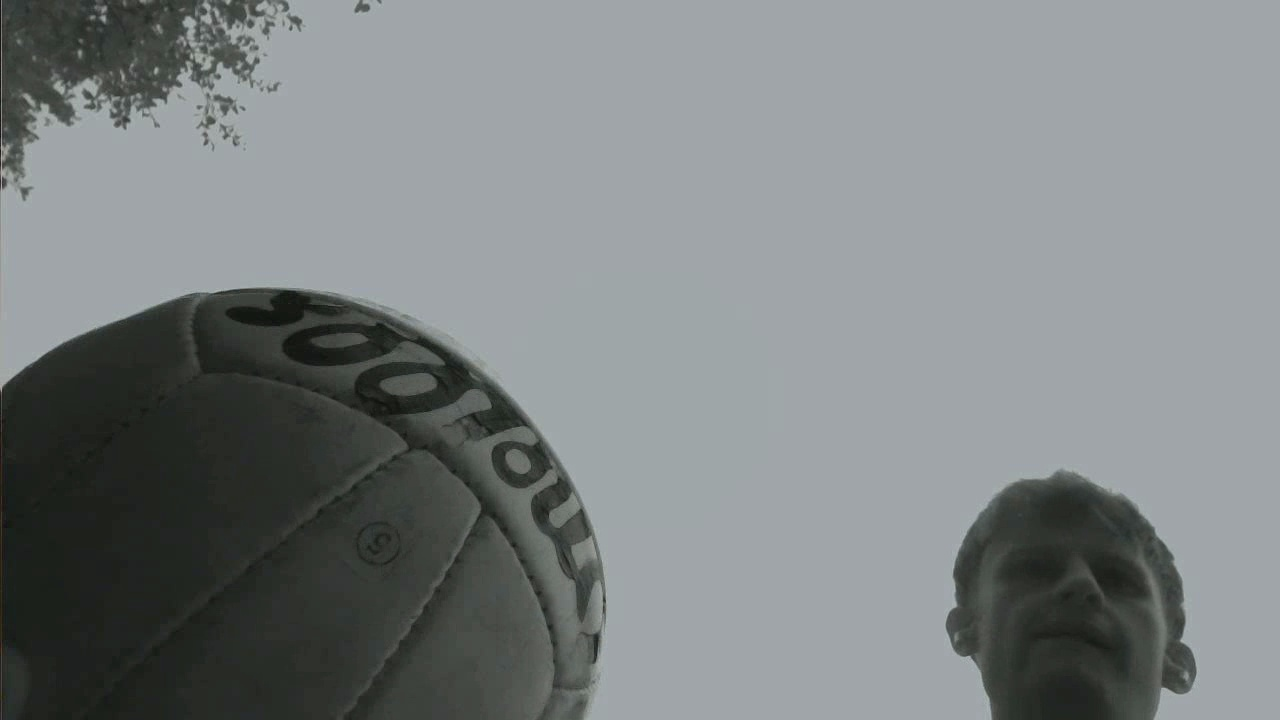Football-Spotter: (0, 288, 606, 719)
